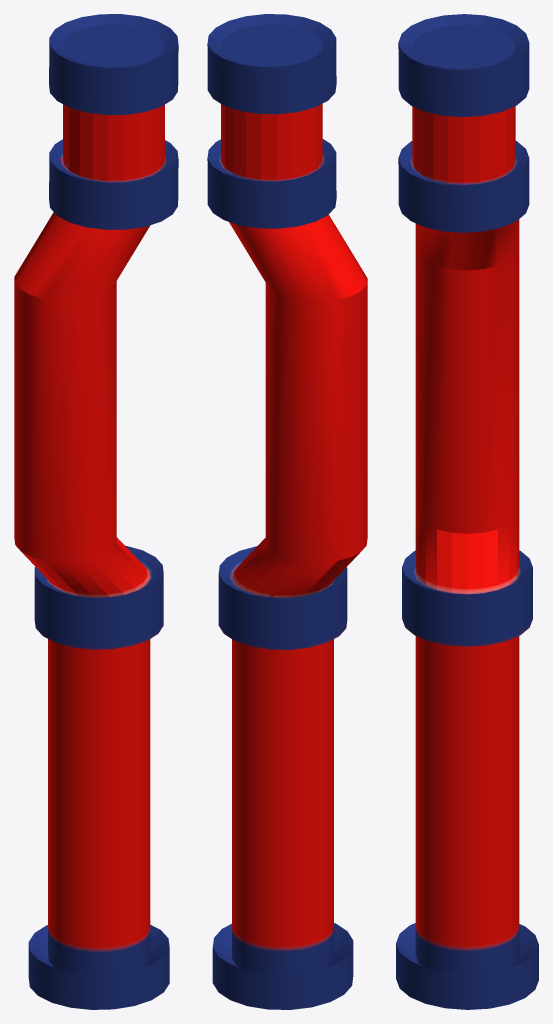
The model's file is Lab Buizen model 7.fbx.
The picture shows the model from 3 angles, left to right: view 1: azimuth 30°, elevation 25°; view 2: azimuth 150°, elevation 25°; view 3: azimuth 270°, elevation 25°; orthographic projection.
Parts seen in each view (by area): view 1: polySurface4; view 2: polySurface4; view 3: polySurface4.
Boxes of the visible parts, x1=… form: polySurface4: x1=14, y1=14, x2=178, y2=1009; polySurface4: x1=207, y1=14, x2=367, y2=1009; polySurface4: x1=396, y1=14, x2=538, y2=1009.
Size of the model in its own units: 33.17 by 202 by 27.62.
Materials: 1 (1 with a texture image).
